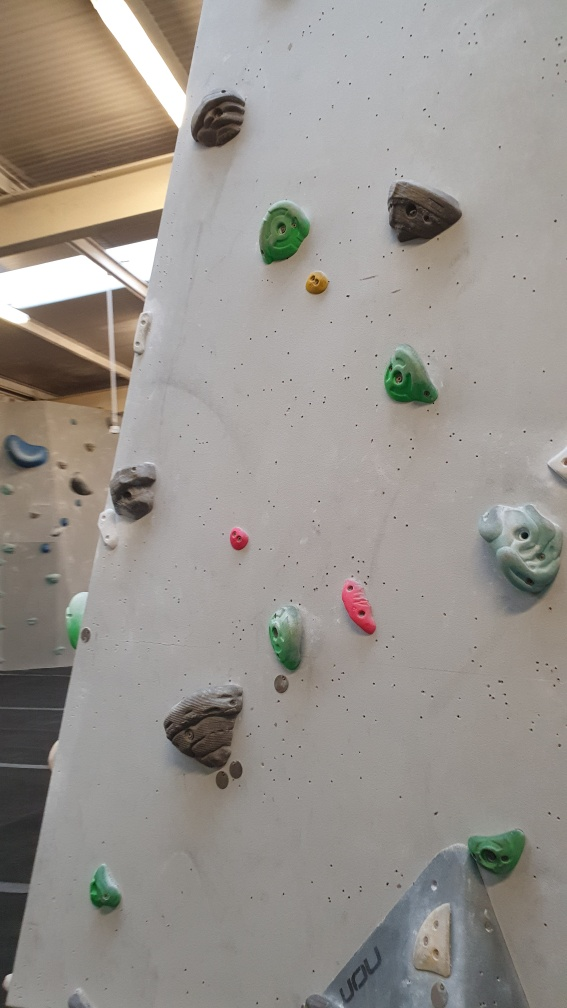Crimp: (408, 901, 457, 982), (338, 575, 379, 638), (130, 309, 155, 359), (96, 514, 123, 551)
Hand Start: (268, 674, 296, 700), (426, 983, 453, 1007), (228, 756, 244, 781), (213, 769, 232, 790), (76, 627, 94, 648)
Jug: (477, 498, 565, 601), (159, 683, 246, 774), (387, 181, 463, 248), (187, 79, 245, 148), (384, 343, 440, 411), (258, 198, 312, 267), (266, 598, 312, 672), (465, 827, 526, 880), (110, 462, 157, 522)
Pinch: (303, 268, 331, 296), (226, 525, 250, 549)
